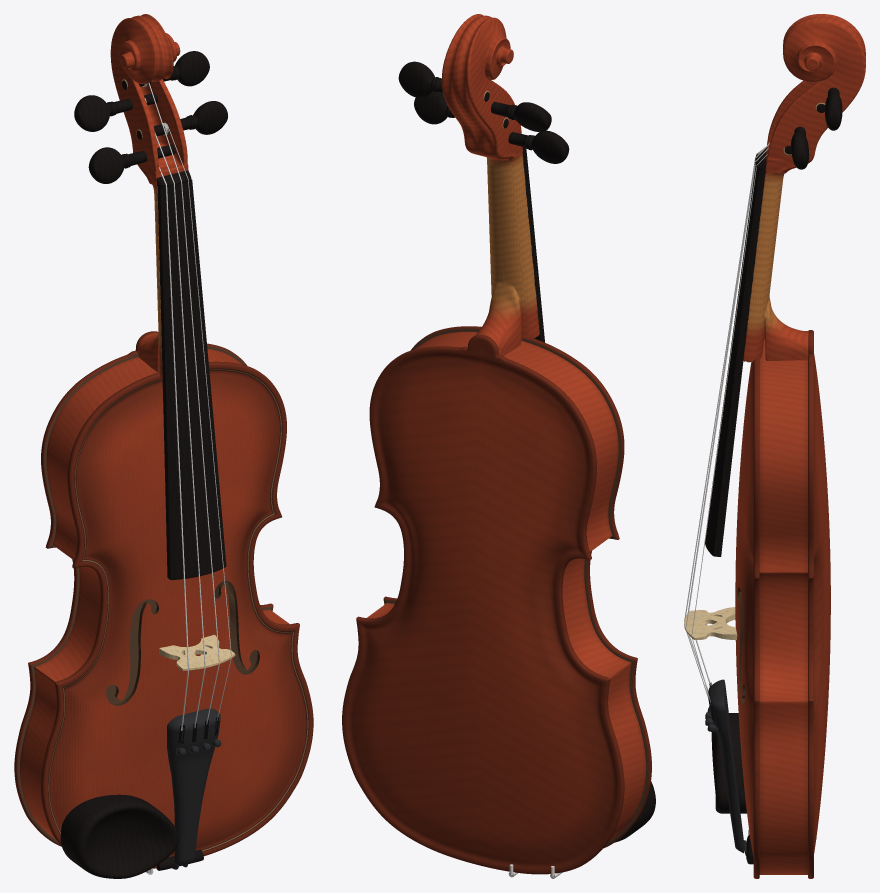
File: violin-4-4.glb
3 views of the same model, side by side, from view 1: azimuth 30°, elevation 25°; view 2: azimuth 150°, elevation 25°; view 3: azimuth 270°, elevation 25° (orthographic). The views are drawn at different scales.
Parts seen in each view (by area): view 1: TopPlate, Fingerboard, Ribs, NeckHead, Chinrest, BackPlate, Tailpiece, Peg_G, Bridge, Peg_D, Peg_E, String_G (+4 smaller); view 2: BackPlate, NeckHead, Ribs, TopPlate, Peg_G, Peg_A, Peg_D, Fingerboard, Peg_E; view 3: Ribs, NeckHead, TopPlate, BackPlate, Fingerboard, Tailpiece, Chinrest, Bridge, String_D, String_A, String_E, Peg_E (+2 smaller).
Boxes of the visible parts, left/top/right/bottom form: TopPlate: left=40, top=361, right=313, bottom=868; Fingerboard: left=157, top=179, right=226, bottom=580; Ribs: left=20, top=348, right=289, bottom=839; NeckHead: left=110, top=14, right=188, bottom=379; Chinrest: left=60, top=794, right=178, bottom=878; BackPlate: left=14, top=331, right=273, bottom=846; Tailpiece: left=167, top=708, right=220, bottom=865; Peg_G: left=88, top=144, right=175, bottom=183; Bridge: left=159, top=634, right=235, bottom=670; Peg_D: left=74, top=93, right=157, bottom=131; Peg_E: left=136, top=101, right=227, bottom=139; String_G: left=159, top=167, right=189, bottom=730; BackPlate: left=342, top=334, right=624, bottom=874; NeckHead: left=441, top=14, right=539, bottom=355; Ribs: left=367, top=331, right=646, bottom=841; TopPlate: left=383, top=326, right=651, bottom=848; Peg_G: left=508, top=130, right=569, bottom=163; Peg_A: left=398, top=61, right=489, bottom=101; Peg_D: left=491, top=101, right=551, bottom=131; Fingerboard: left=522, top=148, right=544, bottom=342; Peg_E: left=414, top=91, right=508, bottom=128; Ribs: left=759, top=339, right=807, bottom=874; NeckHead: left=743, top=14, right=865, bottom=362; TopPlate: left=735, top=357, right=759, bottom=878; BackPlate: left=808, top=330, right=830, bottom=878; Fingerboard: left=705, top=165, right=765, bottom=556; Tailpiece: left=708, top=679, right=744, bottom=853; Chinrest: left=711, top=713, right=746, bottom=813; Bridge: left=684, top=607, right=737, bottom=639; String_D: left=684, top=142, right=769, bottom=691; String_A: left=685, top=148, right=768, bottom=698; String_E: left=691, top=154, right=767, bottom=703; Peg_E: left=791, top=126, right=809, bottom=169.
Bounding box in the file's own units: 0.204 × 0.5975 × 0.1163.
Materials: 15 (6 with a texture image).
